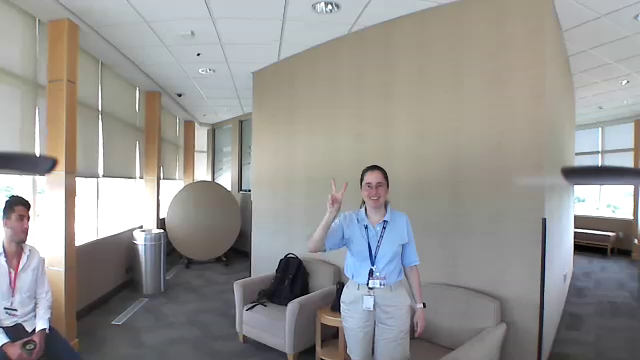peace: (321, 177, 351, 215)
